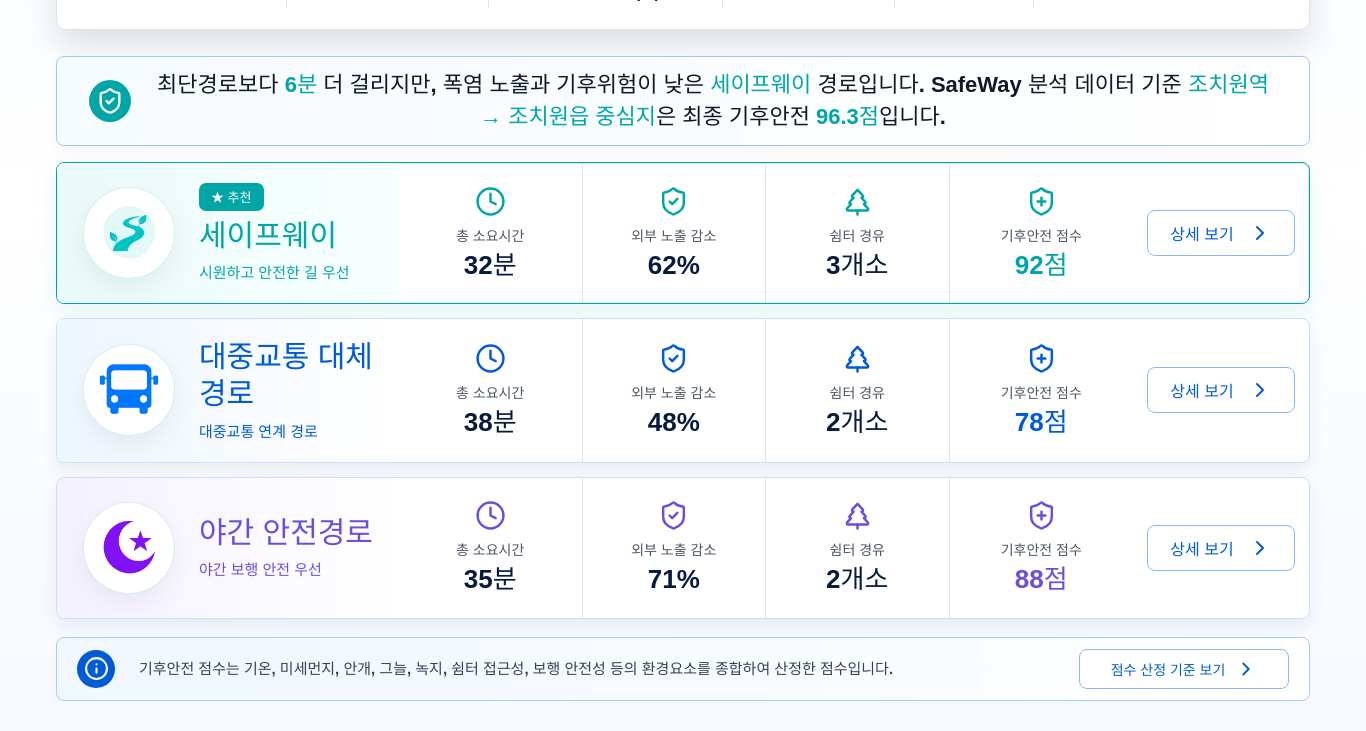
Test: RecommendationPage › reveals the score criteria explanation
(page scrolled)
Click the button "점수 산정 기준 보기".
click(1184, 669)  # box x1=1079 y1=649 x2=1289 y2=689
(page scrolled)
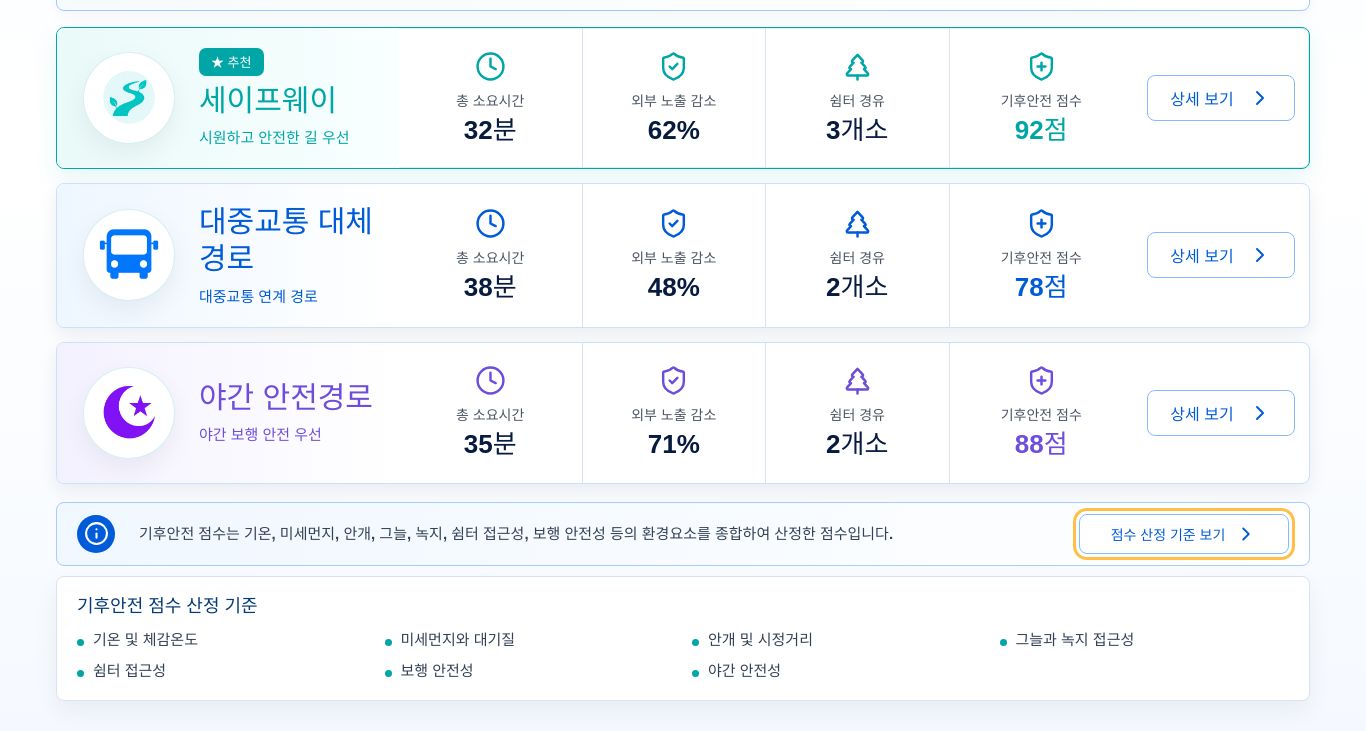
Result: the list item "기온 및 체감온도" is shown at x1=93 y1=631 x2=198 y2=648
Result: the list item "미세먼지와 대기질" is shown at x1=400 y1=631 x2=515 y2=648
Result: the list item "야간 안전성" is shown at x1=708 y1=662 x2=781 y2=679
